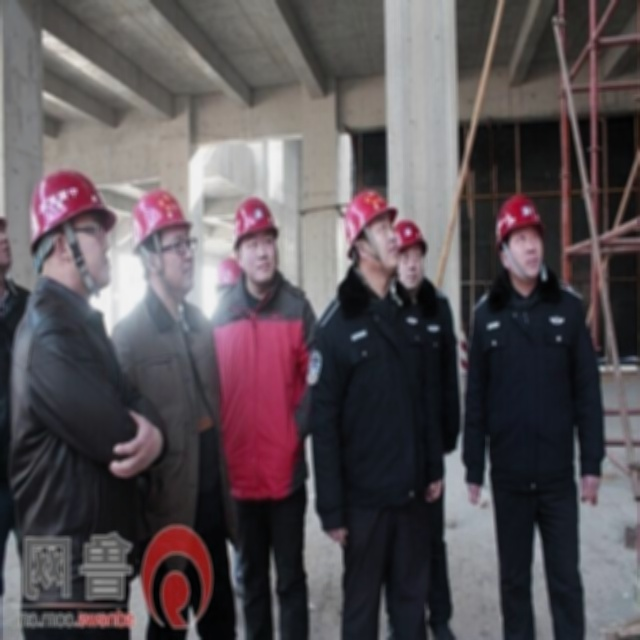Con_Casco: (231, 197, 280, 285), (499, 194, 545, 278)
Sin_Chaleco: (316, 287, 429, 513), (482, 288, 578, 488)
